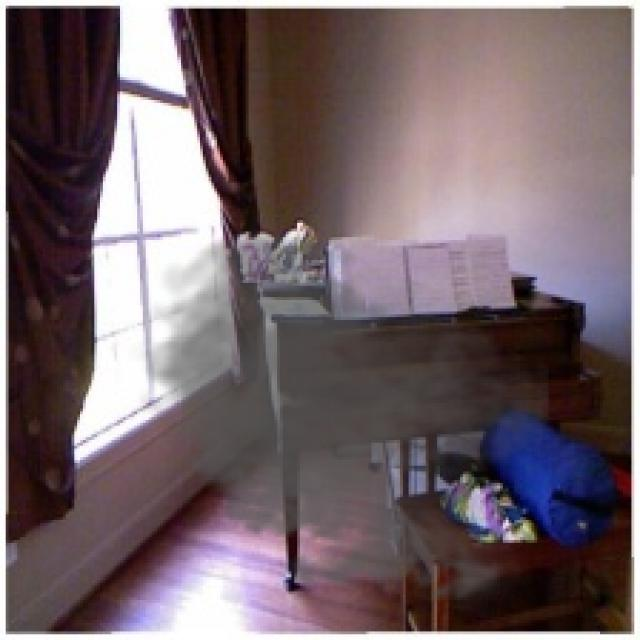smoke: (126, 223, 548, 614)
